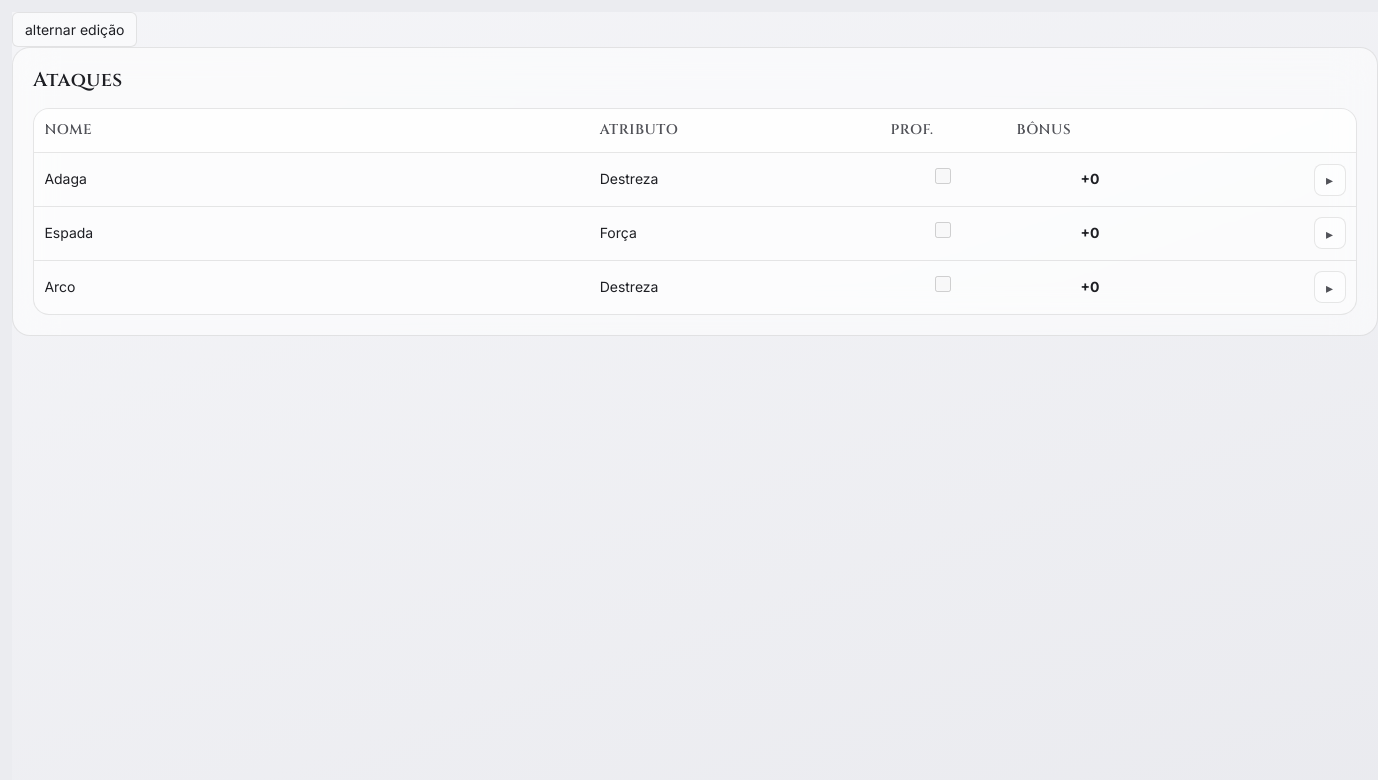
Test case: AttacksPanel — resultado não migra quando um ataque anterior é removido › dois ataques rolados mantêm cada resultado no seu dono
Click the button named "Expandir detalhes": point(1330, 233) [1314,217,1346,249]
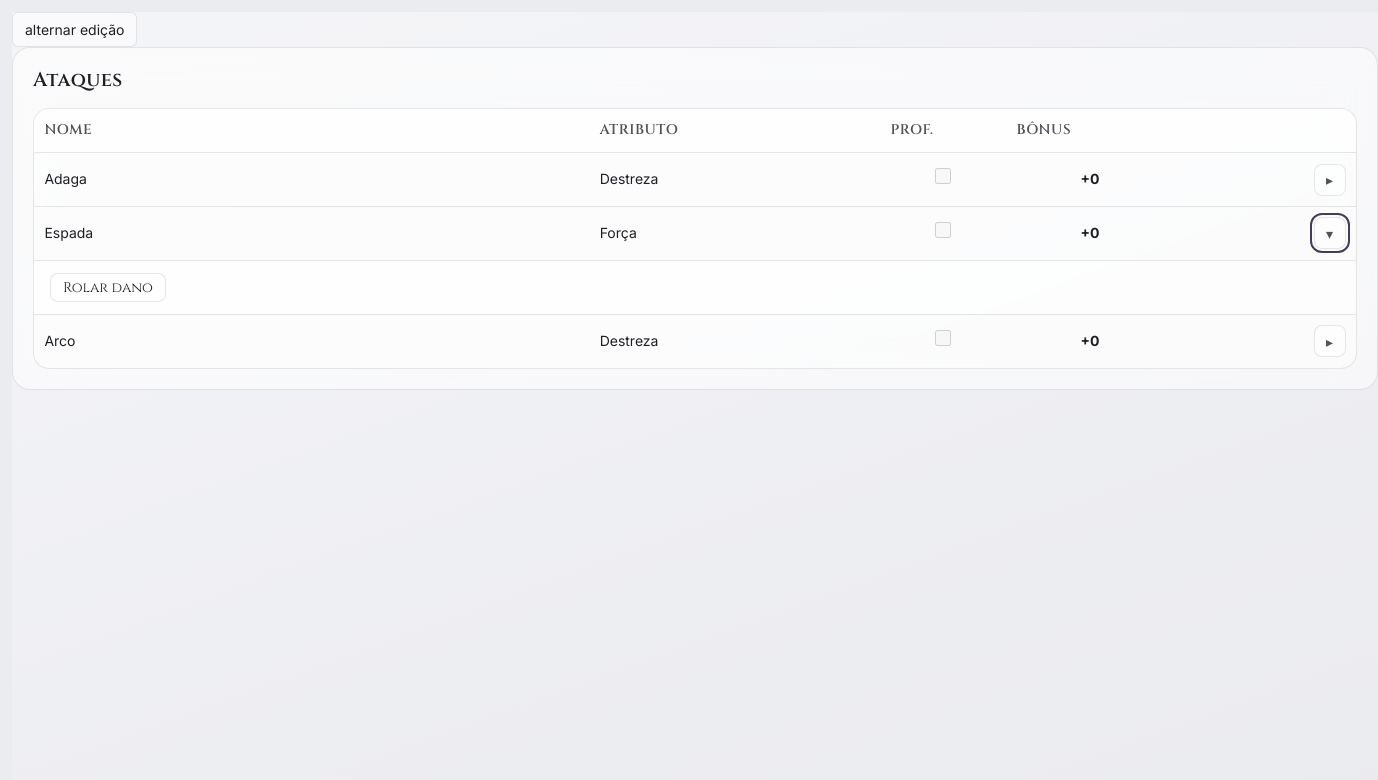
Click the button named "Expandir detalhes": point(1330, 341) [1314,325,1346,357]
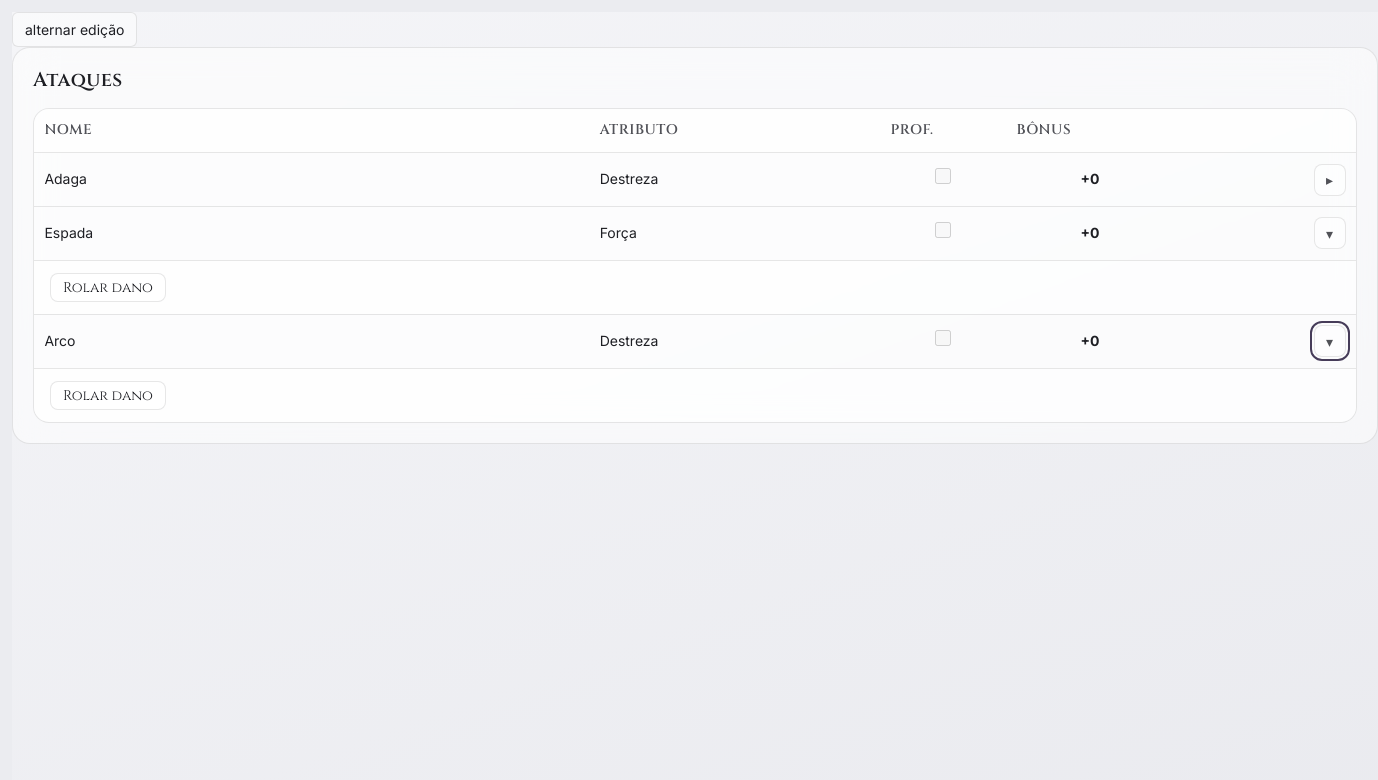
Expected: the number of buttons "Rolar dano" is 2
Click the 1st button "Rolar dano": point(108, 287) [50,273,166,302]
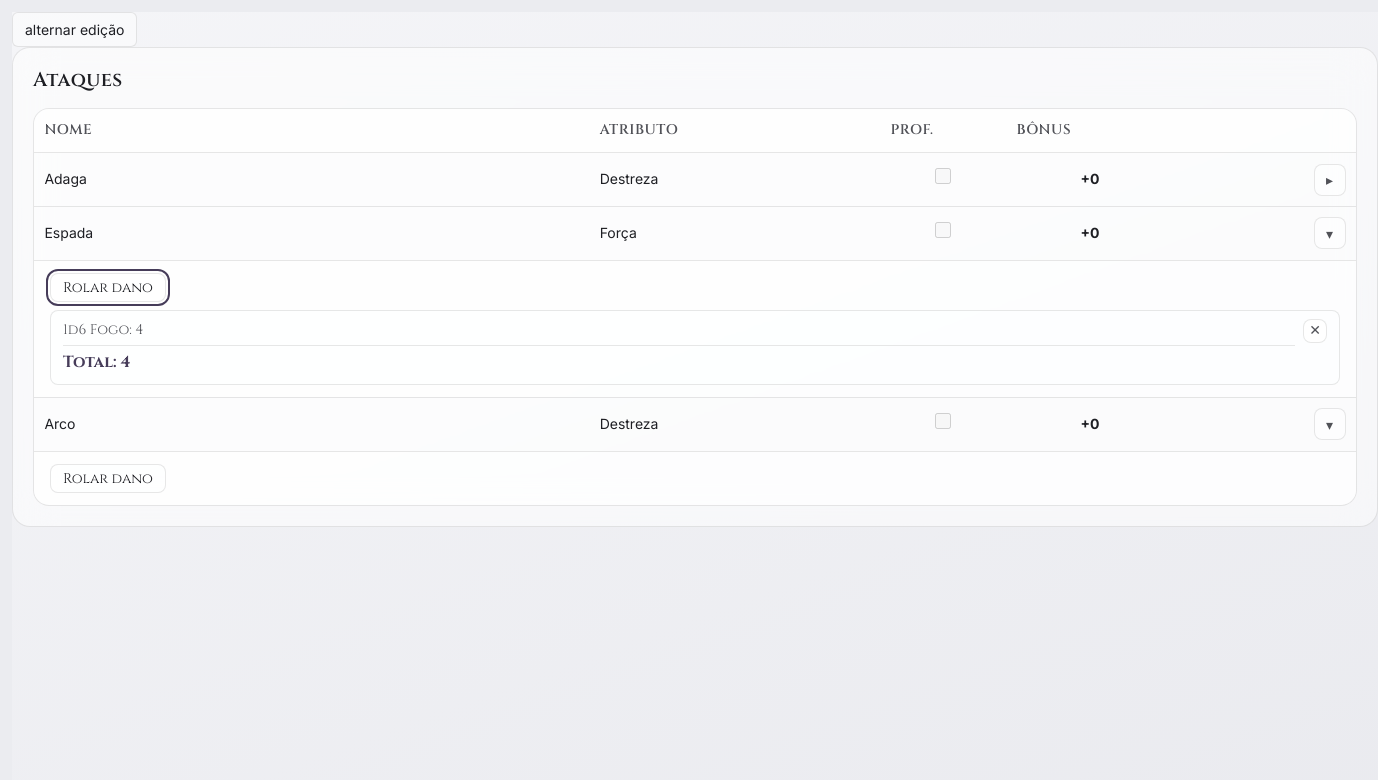
Click the 2nd button "Rolar dano": point(108, 478) [50,464,166,492]
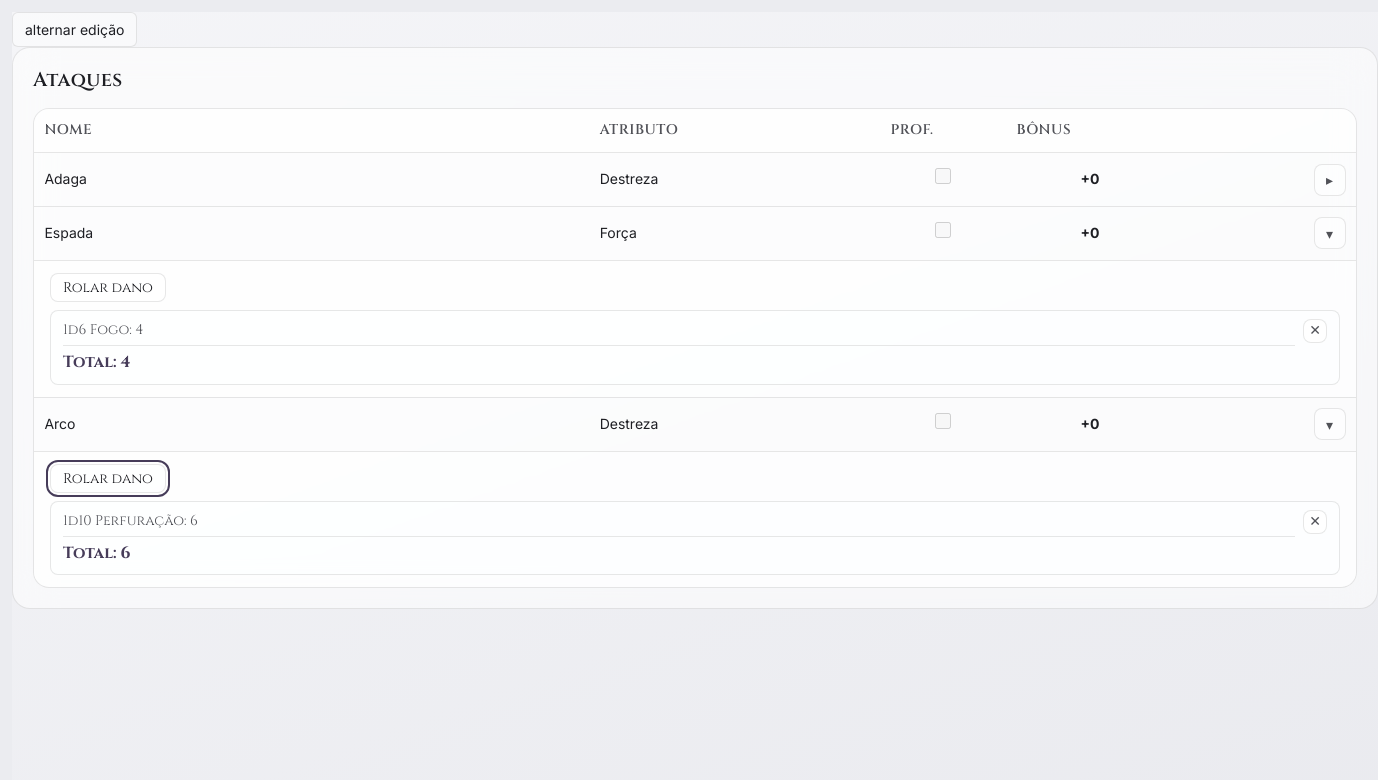
Expected: the text "1d6 Fogo: 4" is shown, [63,320,143,339]
Expected: the text "1d10 Perfuração: 6" is shown, [63,510,198,530]
Click the button named "Limpar resultado da rolagem de Espada": point(1315, 331) [1303,319,1327,343]
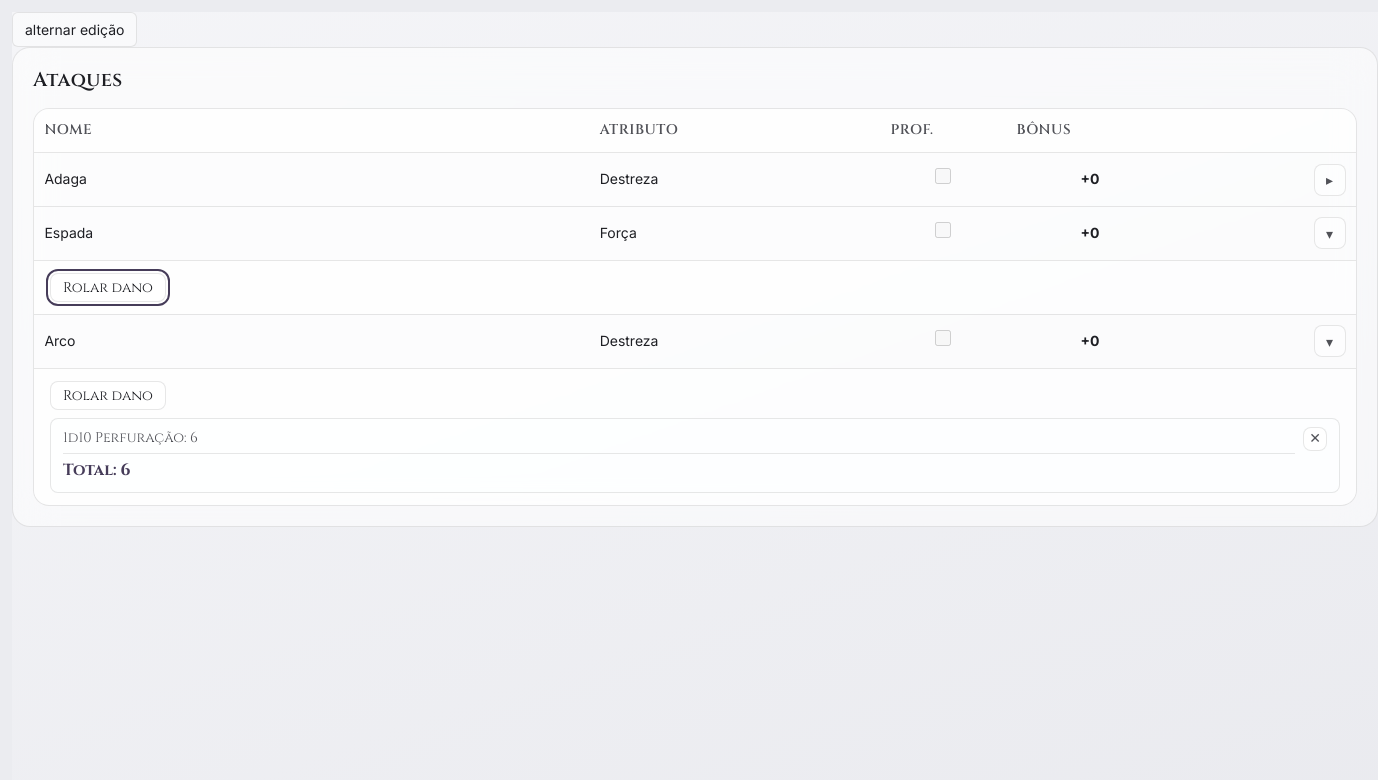
Expected: the text "1d10 Perfuração: 6" is shown, [63,428,198,446]
Expected: the text "1d6 Fogo: 4" is gone
